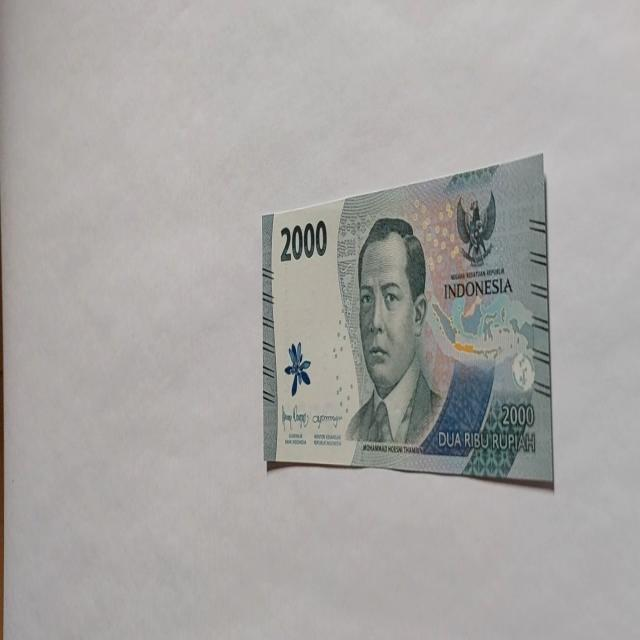dua ribu rupiah: (262, 152, 554, 486), (344, 216, 444, 450)
